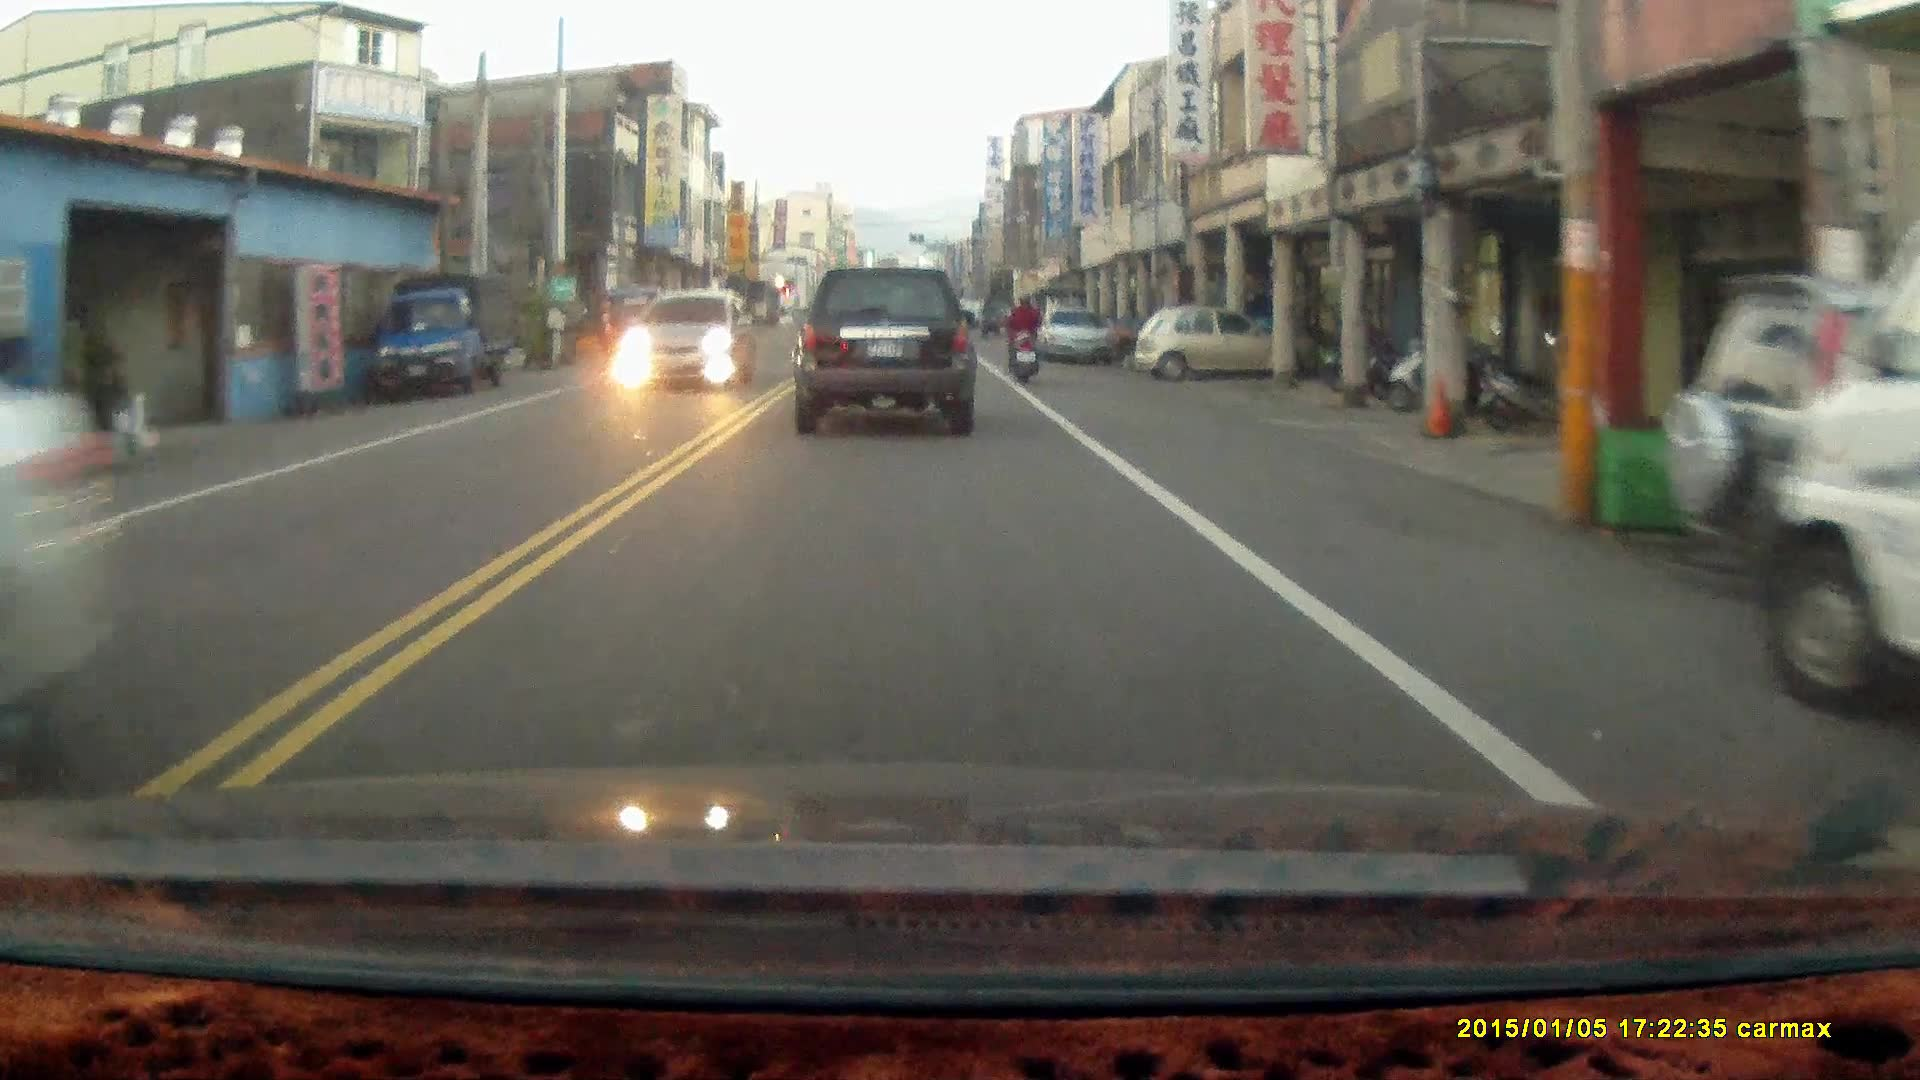pedestrian: (596, 291, 618, 359)
rider: (1004, 289, 1041, 384)
vehicle: (1655, 269, 1919, 604), (1772, 161, 1920, 712), (788, 260, 978, 432), (376, 268, 524, 399), (623, 286, 761, 389), (1136, 301, 1296, 379), (1039, 302, 1117, 364)
